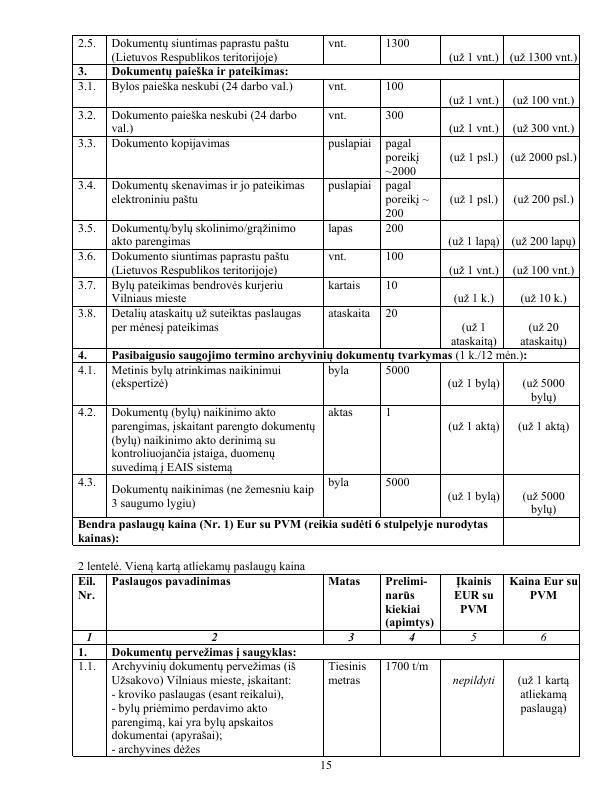table: (69, 33, 581, 548), (72, 572, 580, 758)
text: (76, 560, 306, 573)
